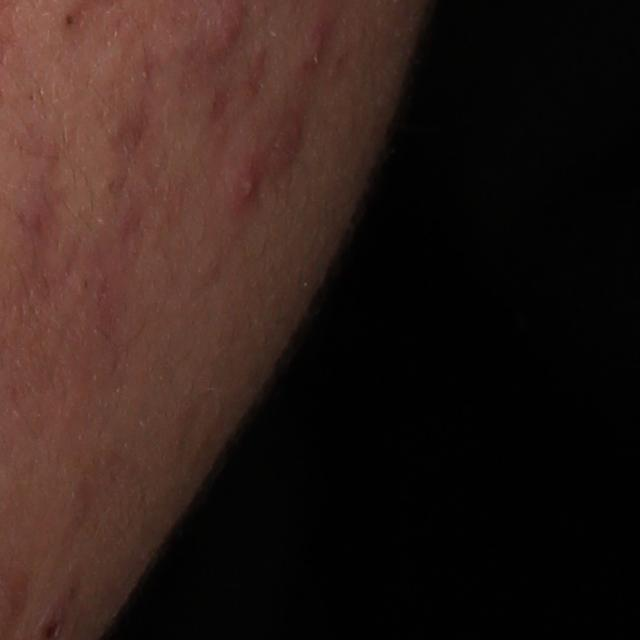comedo: (58, 12, 75, 28)
papule: (231, 159, 265, 202)
